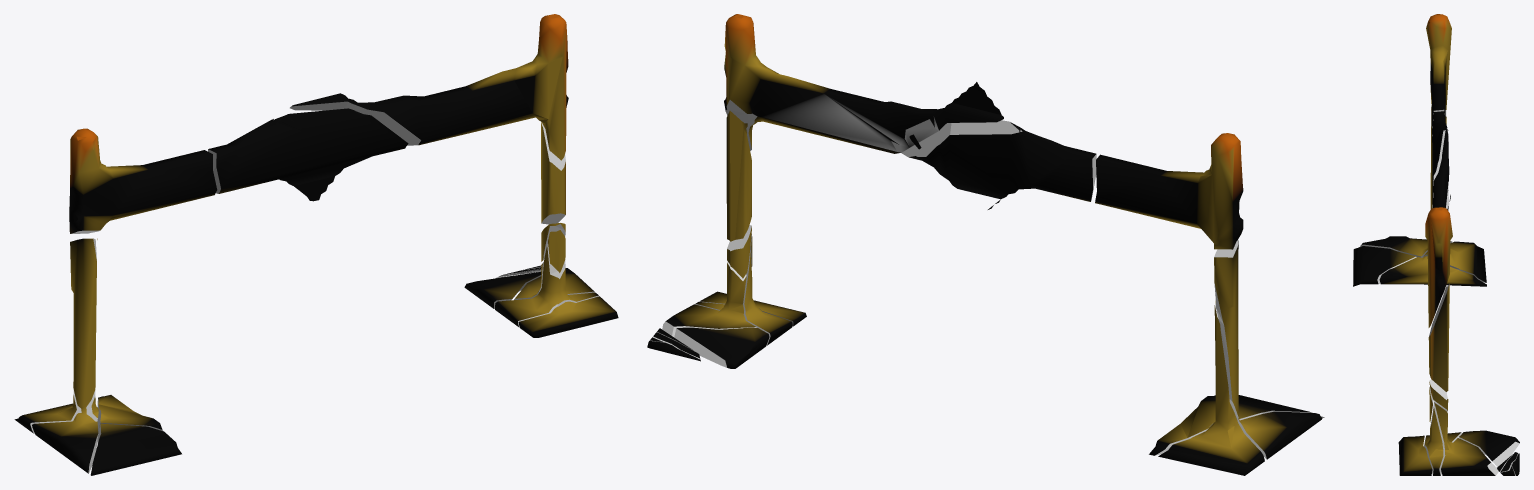
File: Construction Barriers.glb
3 views of the same model, side by side, from view 1: azimuth 30°, elevation 25°; view 2: azimuth 150°, elevation 25°; view 3: azimuth 270°, elevation 25° (orthographic). The views are drawn at different scales.
Visible parts, largest first — view 1: Root.006, Root.010, Root.001, Root.004, Root, Root.011, Root.002, Root.017, Root.007, Root.009, Root.014, Root.018; view 2: Root.006, Root.010, Root.001, Root.004, Root.014, Root.017, Root.007, Root.018, Root.009, Root.011, Root, Root.019 (+1 smaller); view 3: Root.006, Root.001, Root.018, Root.017, Root, Root.009, Root.007, Root.002, Root.014, Root.004, Root.011, Root.010 (+1 smaller).
Part boxes in pixels (x1,y1,x2,y2): Root.006: [290, 14, 568, 160]; Root.010: [208, 108, 408, 201]; Root.001: [69, 128, 217, 233]; Root.004: [32, 238, 98, 473]; Root: [90, 423, 181, 475]; Root.011: [495, 244, 598, 327]; Root.002: [518, 296, 618, 337]; Root.017: [541, 121, 565, 224]; Root.007: [464, 271, 541, 308]; Root.009: [97, 395, 163, 431]; Root.014: [14, 390, 98, 433]; Root.018: [514, 262, 594, 299]; Root.006: [724, 14, 1003, 153]; Root.010: [901, 120, 1096, 209]; Root.001: [1095, 133, 1243, 249]; Root.004: [1214, 240, 1322, 459]; Root.014: [1158, 305, 1264, 475]; Root.017: [726, 111, 751, 241]; Root.007: [674, 327, 769, 368]; Root.018: [662, 261, 756, 337]; Root.009: [1149, 395, 1215, 455]; Root.011: [695, 250, 792, 345]; Root: [1236, 395, 1324, 420]; Root.019: [727, 225, 751, 278]; Root.006: [1425, 117, 1452, 327]; Root.001: [1426, 14, 1451, 142]; Root.018: [1434, 402, 1498, 475]; Root.017: [1428, 284, 1449, 391]; Root: [1353, 246, 1416, 286]; Root.009: [1379, 256, 1486, 286]; Root.007: [1459, 430, 1519, 466]; Root.002: [1398, 435, 1432, 475]; Root.014: [1423, 241, 1486, 282]; Root.004: [1358, 100, 1452, 257]; Root.011: [1424, 401, 1462, 475]; Root.010: [1432, 111, 1449, 210].
Size of the model in its own units: 1.79 by 0.9119 by 0.5462.
